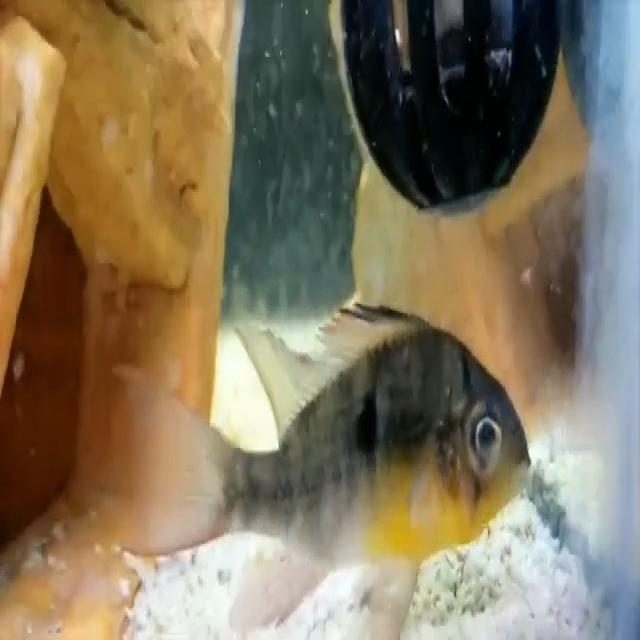fish: (132, 293, 538, 616)
